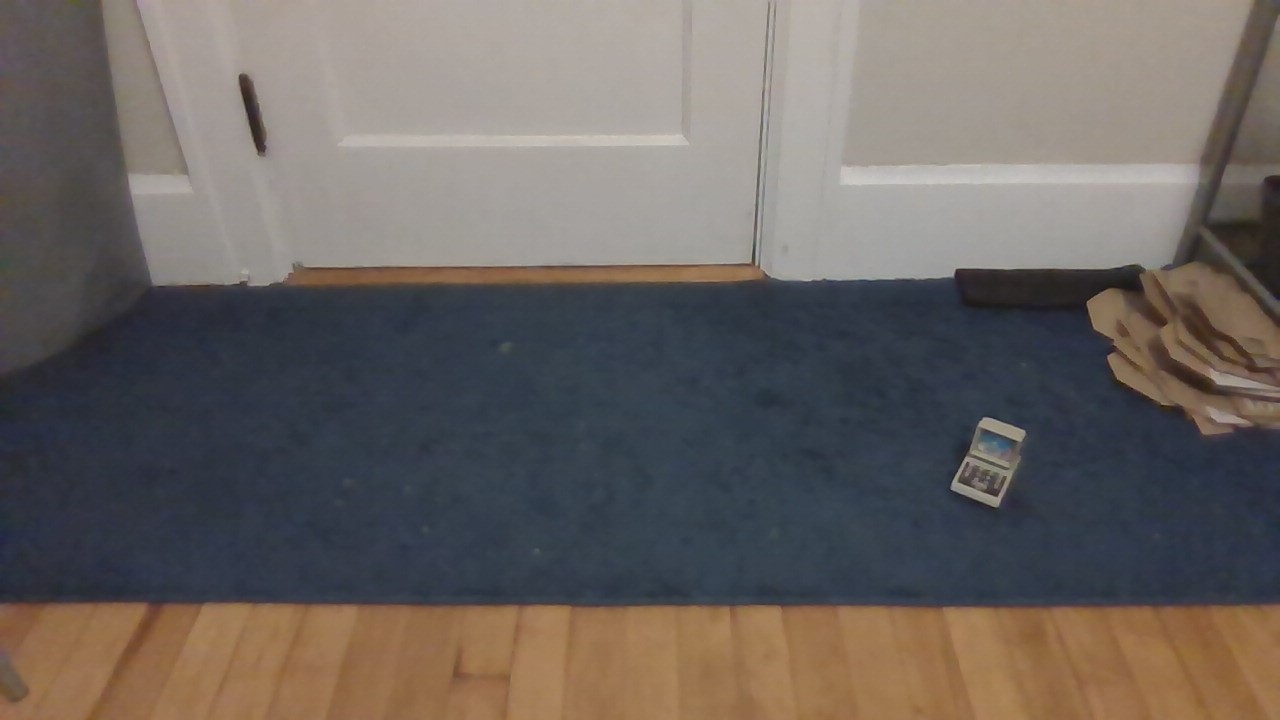Toy: (930, 402, 1041, 526)
